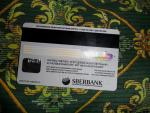card: (16, 20, 119, 91)
